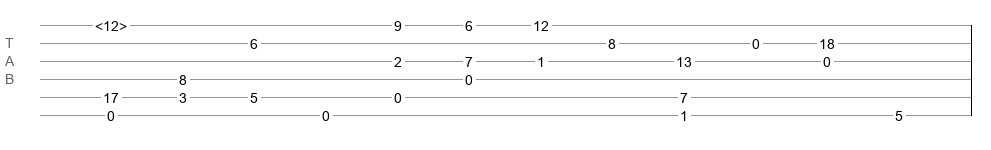0: (107, 108, 115, 118), (322, 108, 330, 118), (394, 90, 402, 100), (465, 72, 473, 82), (752, 36, 760, 46), (823, 54, 831, 64)
1: (537, 54, 545, 64), (680, 108, 688, 118)
12: (533, 18, 549, 28)
13: (676, 54, 692, 64)
17: (103, 90, 119, 100)
18: (819, 36, 835, 46)
2: (394, 54, 402, 64)
3: (179, 90, 187, 100)
5: (250, 90, 258, 100), (895, 108, 903, 118)
6: (250, 36, 258, 46), (465, 18, 473, 28)
7: (465, 54, 473, 64), (680, 90, 688, 100)
8: (179, 72, 187, 82), (608, 36, 616, 46)
9: (394, 18, 402, 28)
harmonic: (95, 18, 127, 28)
